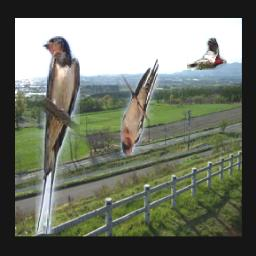Swallow: (35, 36, 80, 234), (121, 60, 159, 156)
Woodpecker: (188, 38, 228, 70)
